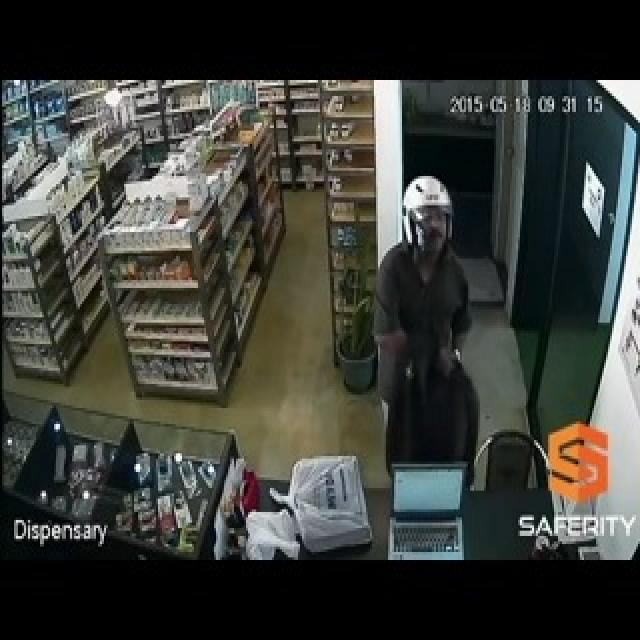thief: (394, 207, 498, 452)
